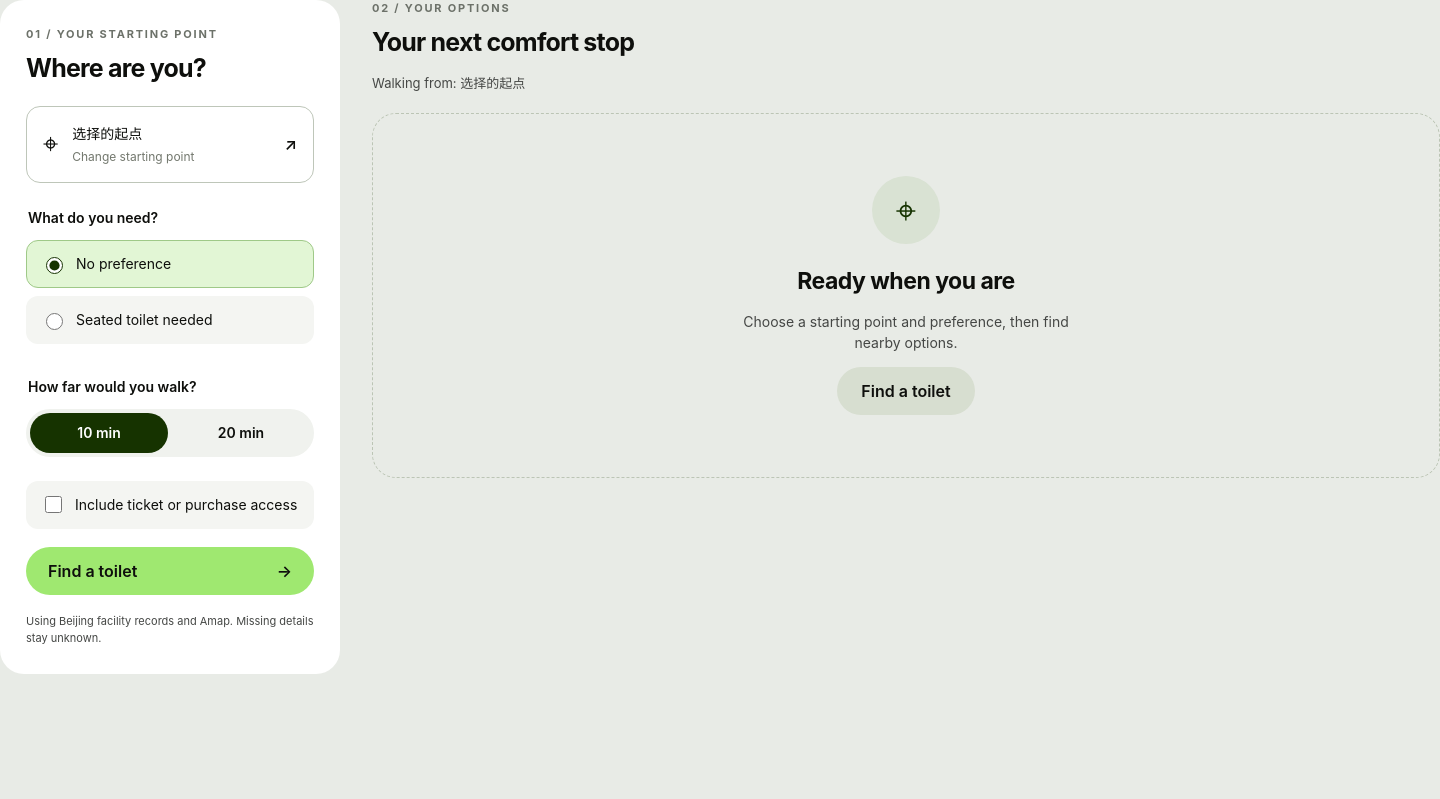
Test: nearby pagination replaces a provider alias with its canonical record and keeps order and latest page controls
Click the button "Find a toilet →": (93, 571) [26,547,314,595]
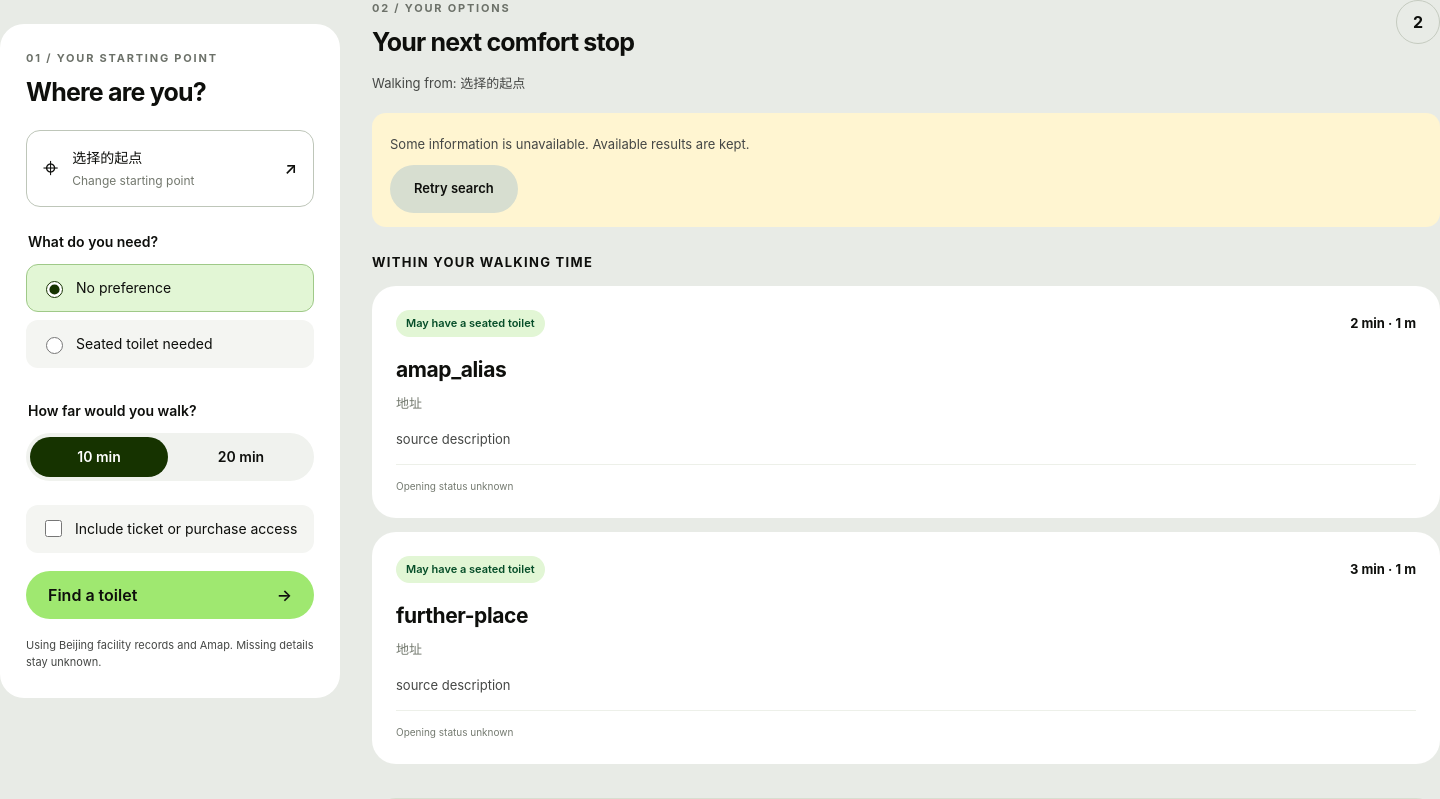
Click the heading "amap_alias": (451, 369) [396,357,506,382]
(page scrolled)
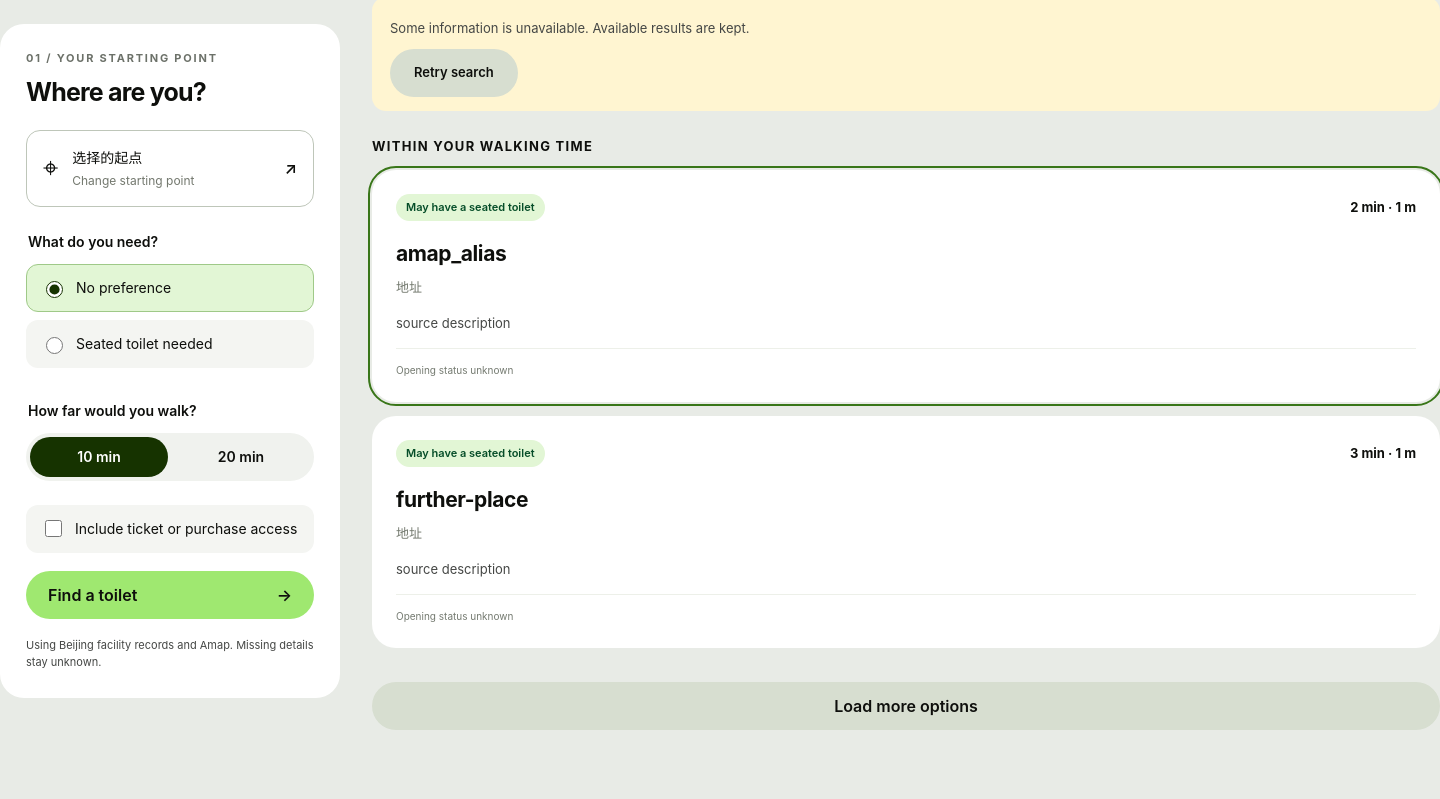
Click the button "Load more options": (906, 706) [372,682,1439,730]
(page scrolled)
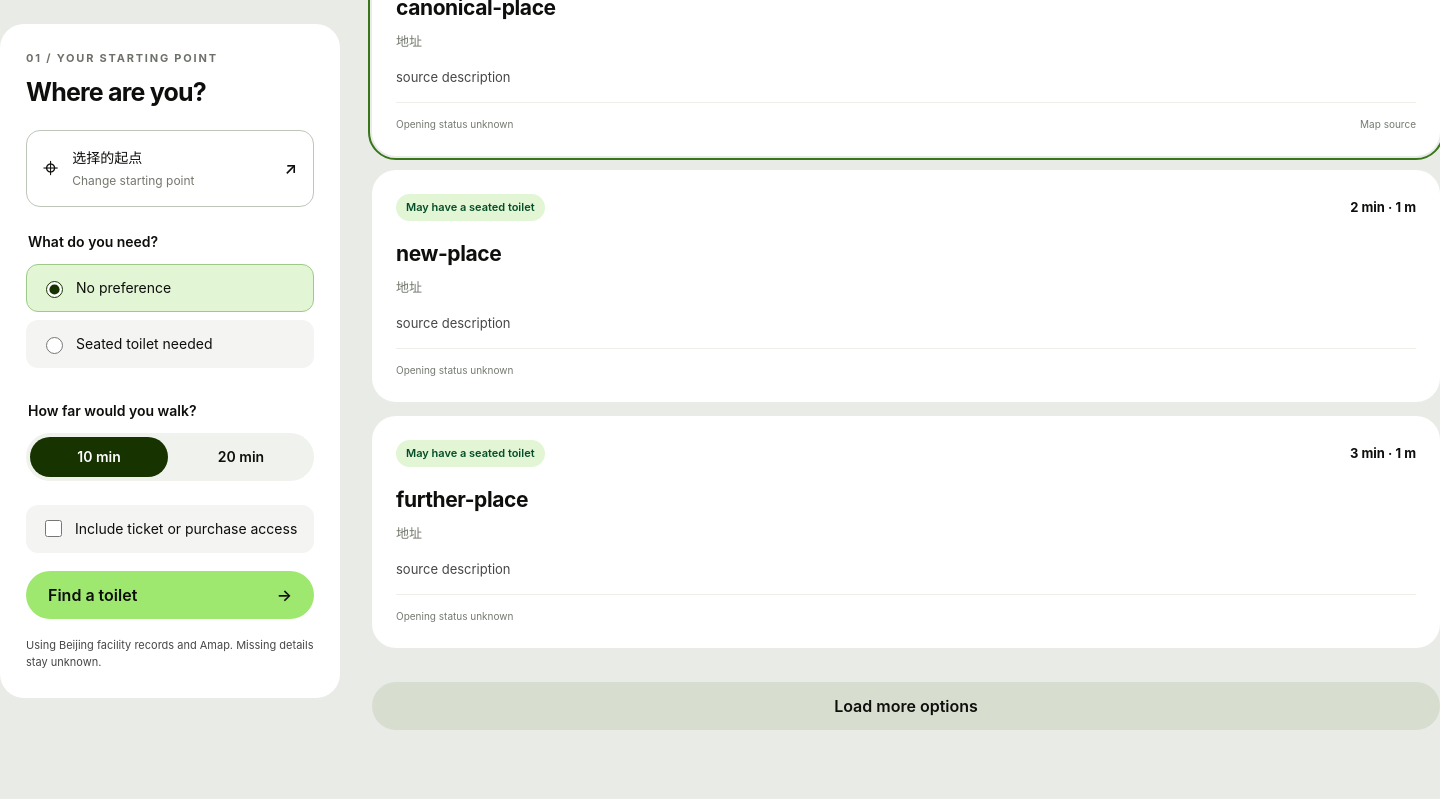
Click the button "Load more options": (906, 706) [372,682,1439,730]
(page scrolled)
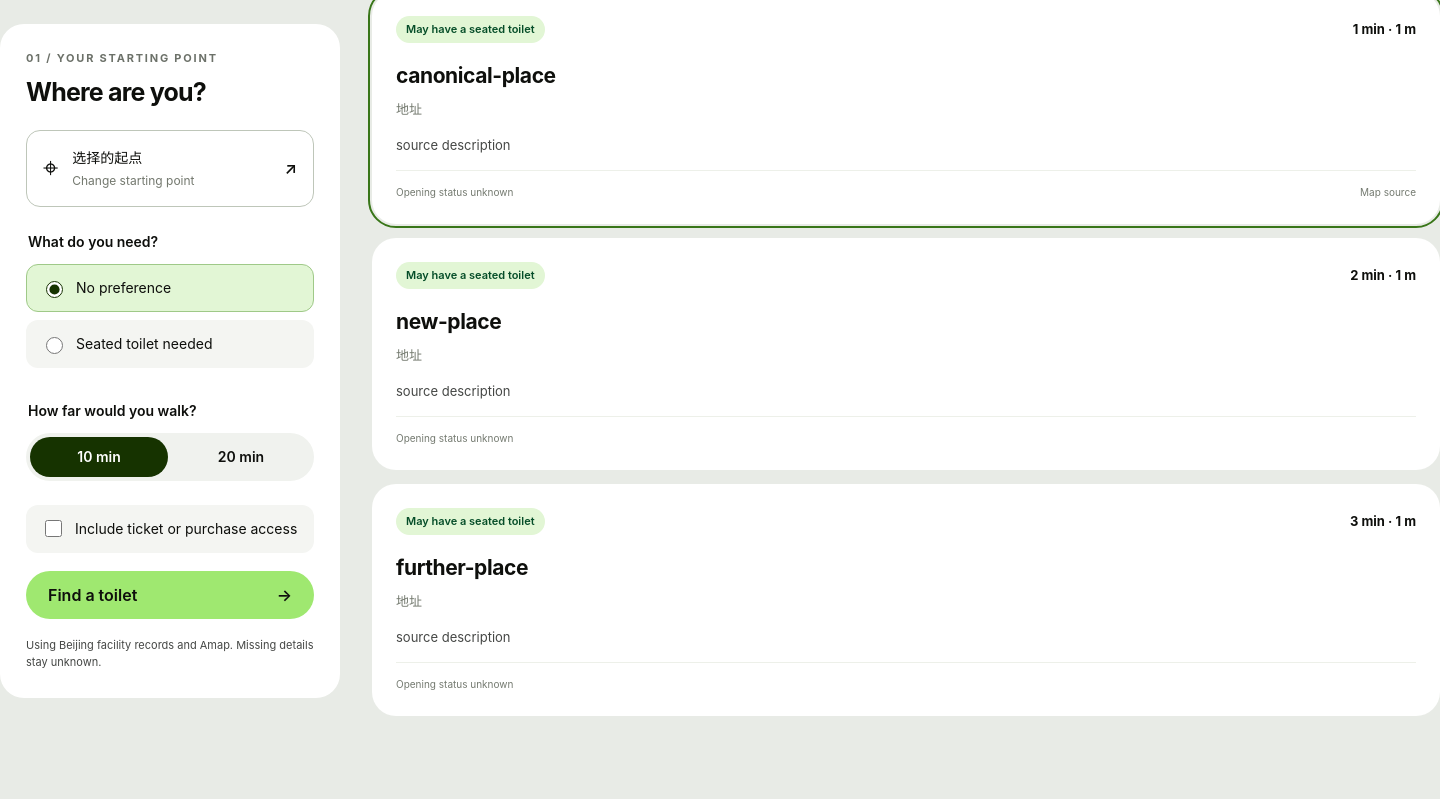
Result: the button "Load more options" is gone
